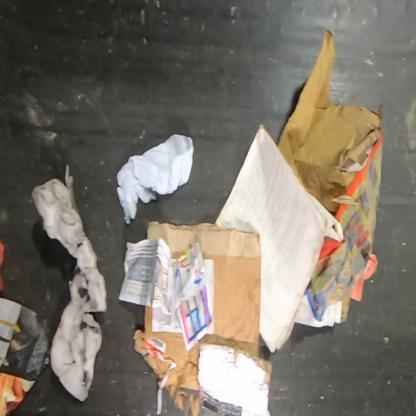cardboard: (133, 220, 273, 416), (277, 29, 383, 214), (198, 342, 271, 416)
